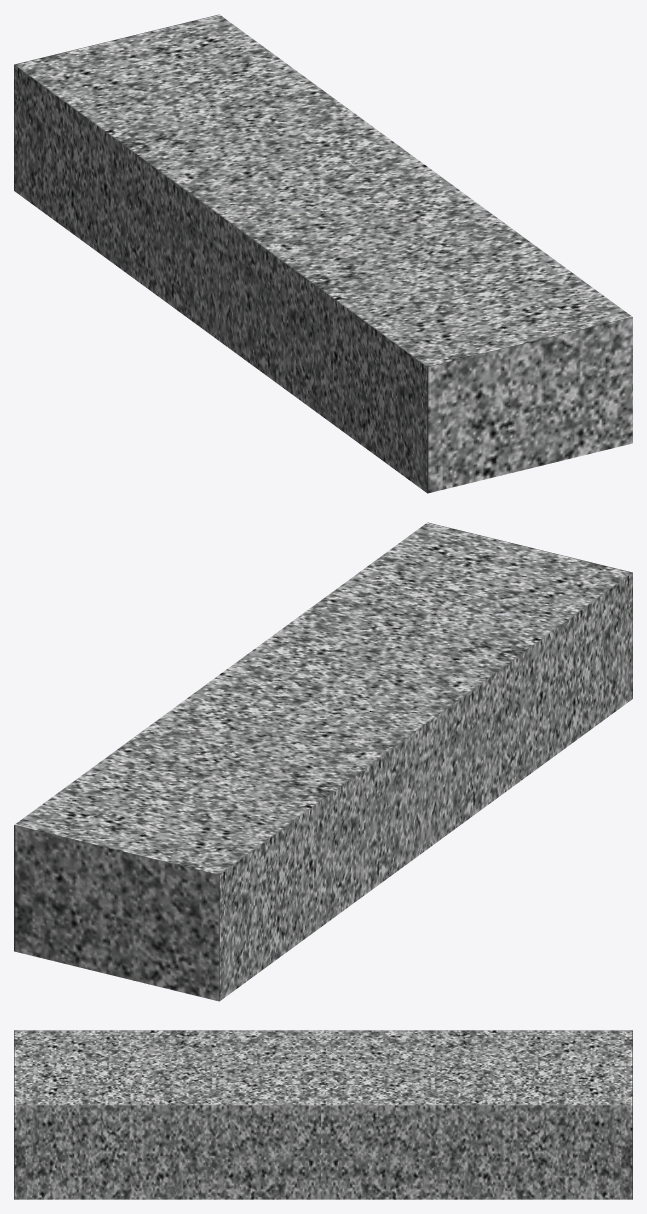
The model's file is SM_Sun_Kak_Step.fbx.
3 renders of one model, top to bottom at view 1: azimuth 30°, elevation 25°; view 2: azimuth 150°, elevation 25°; view 3: azimuth 270°, elevation 25°, orthographic. The views are drawn at different scales.
Visible parts, largest first — view 1: SM_Sun_Kak_Step; view 2: SM_Sun_Kak_Step; view 3: SM_Sun_Kak_Step.
Boxes of the visible parts, bbox=[...] form: SM_Sun_Kak_Step: bbox=[14, 14, 632, 493]; SM_Sun_Kak_Step: bbox=[14, 522, 632, 1001]; SM_Sun_Kak_Step: bbox=[14, 1030, 632, 1199].
Size of the model in its own units: 34.05 by 20 by 119.
